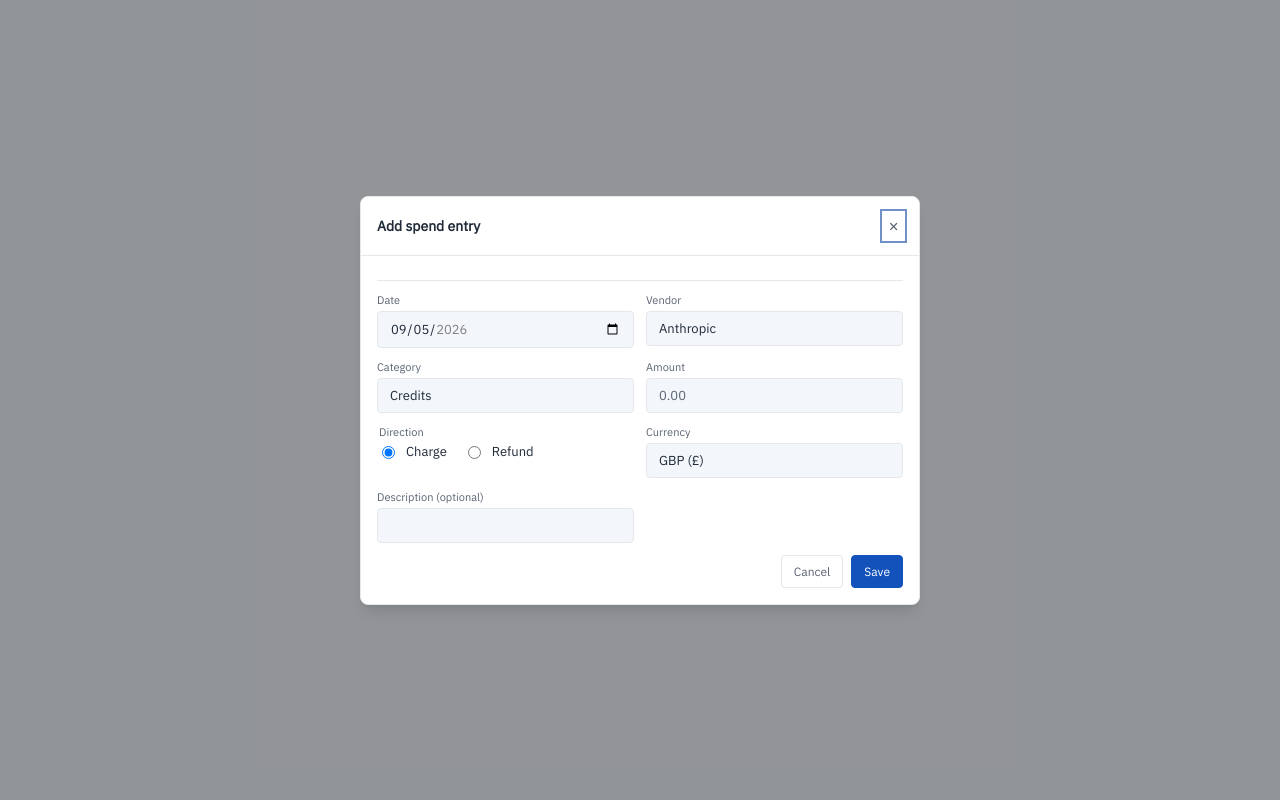
Scenario: SpendEntryModal › refuses to save a date outside the visible window
Step 1. Type "80" into the number field labelled "Amount" → (774,395), box top-left (646, 378), bottom-right (903, 412)
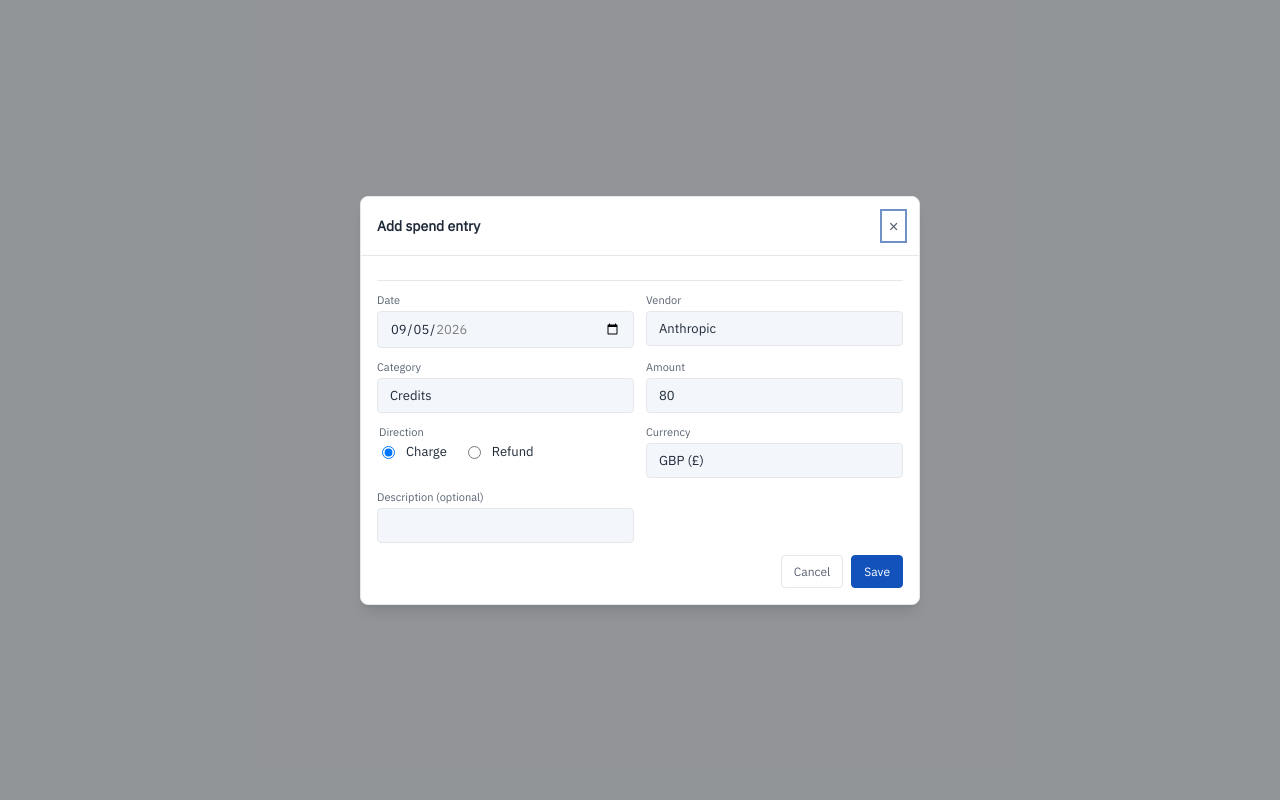
Step 2. Type "2000-01-01" into the date field labelled "Date" → (506,329), box top-left (377, 310), bottom-right (634, 348)
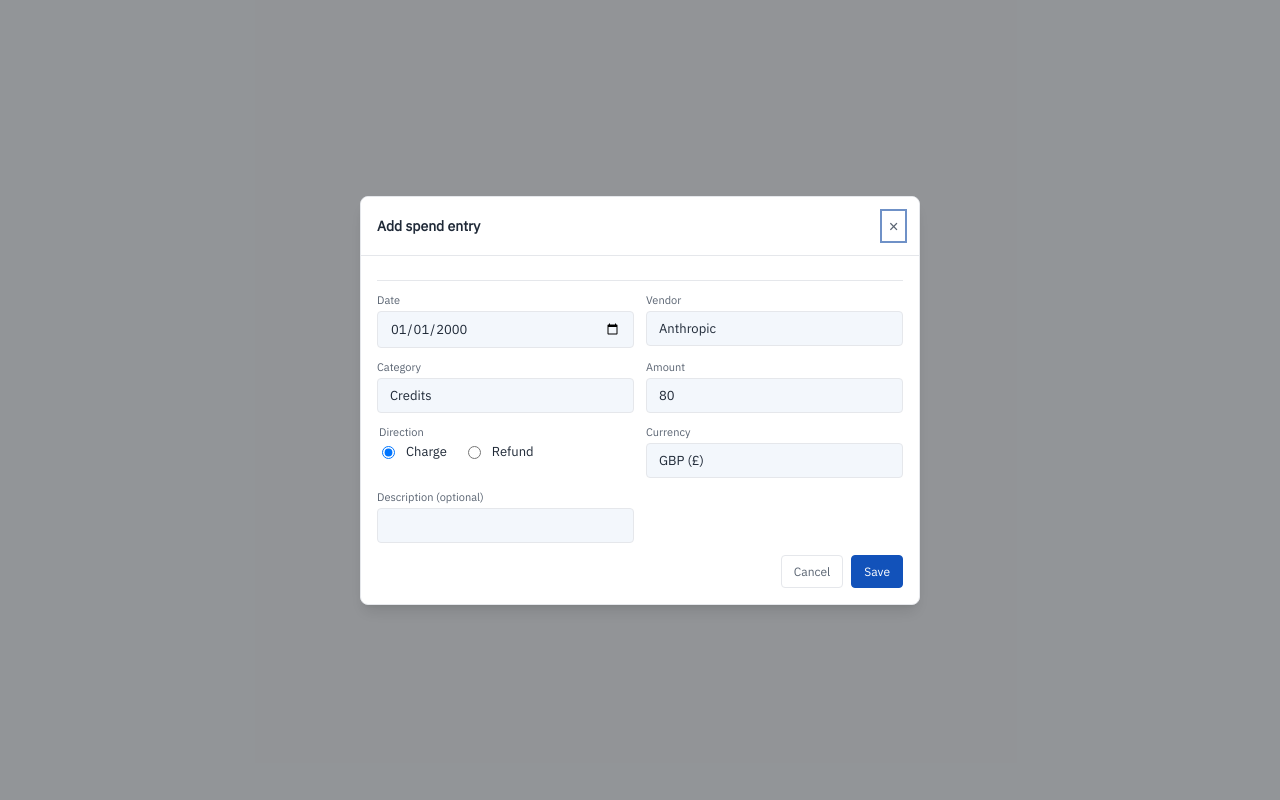
Step 3. Click the button "Save" → (877,571), box top-left (851, 554), bottom-right (903, 588)
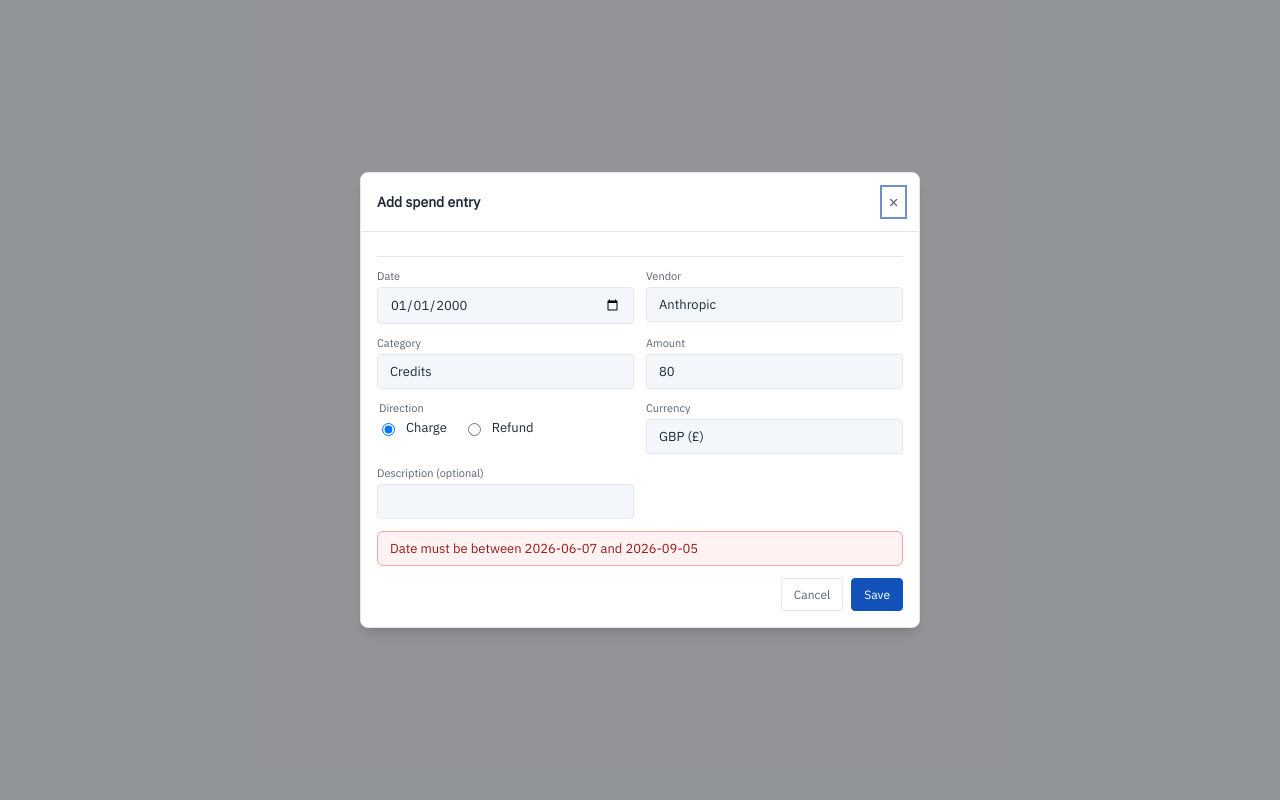
Expected: the message "Date must be between 2026-06-07 and 2026-09-05" is shown, top-left (377, 531), bottom-right (903, 566)
